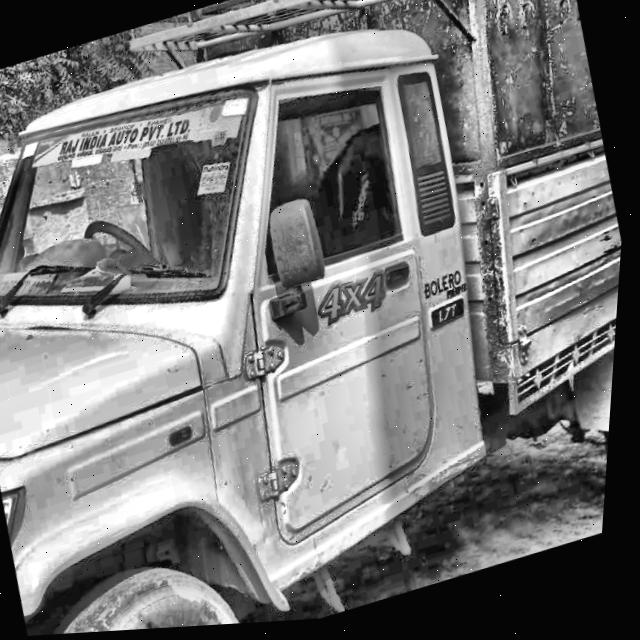light_vehicle: (0, 0, 561, 640)
